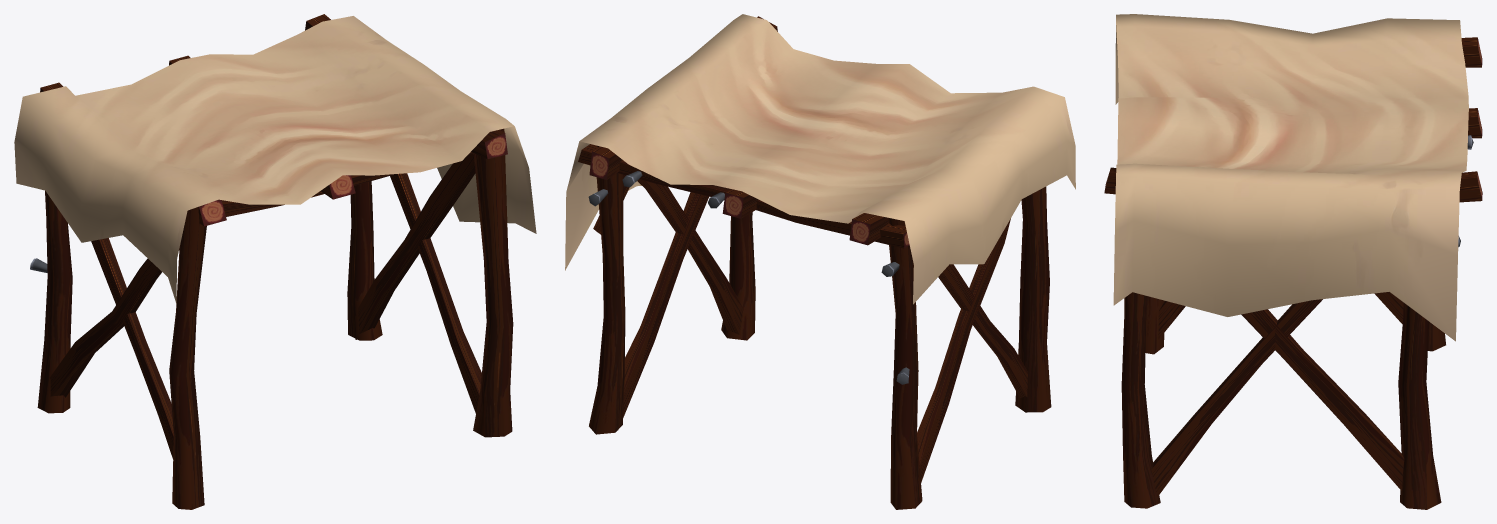
File: SM_PROP_market_v01_01.glb
The picture shows the model from 3 angles, left to right: view 1: azimuth 30°, elevation 25°; view 2: azimuth 150°, elevation 25°; view 3: azimuth 270°, elevation 25°; orthographic projection. The views are drawn at different scales.
Visible parts, largest first — view 1: SM_PROP_market_v01_01_EXPORT; view 2: SM_PROP_market_v01_01_EXPORT; view 3: SM_PROP_market_v01_01_EXPORT.
Part boxes in pixels (<box>): SM_PROP_market_v01_01_EXPORT: <box>14,14,536,509</box>; SM_PROP_market_v01_01_EXPORT: <box>565,14,1075,509</box>; SM_PROP_market_v01_01_EXPORT: <box>1104,14,1482,509</box>.
Bounding box in the file's own units: 4.21 × 3.5 × 3.62.
Materials: 4 (4 with a texture image).
